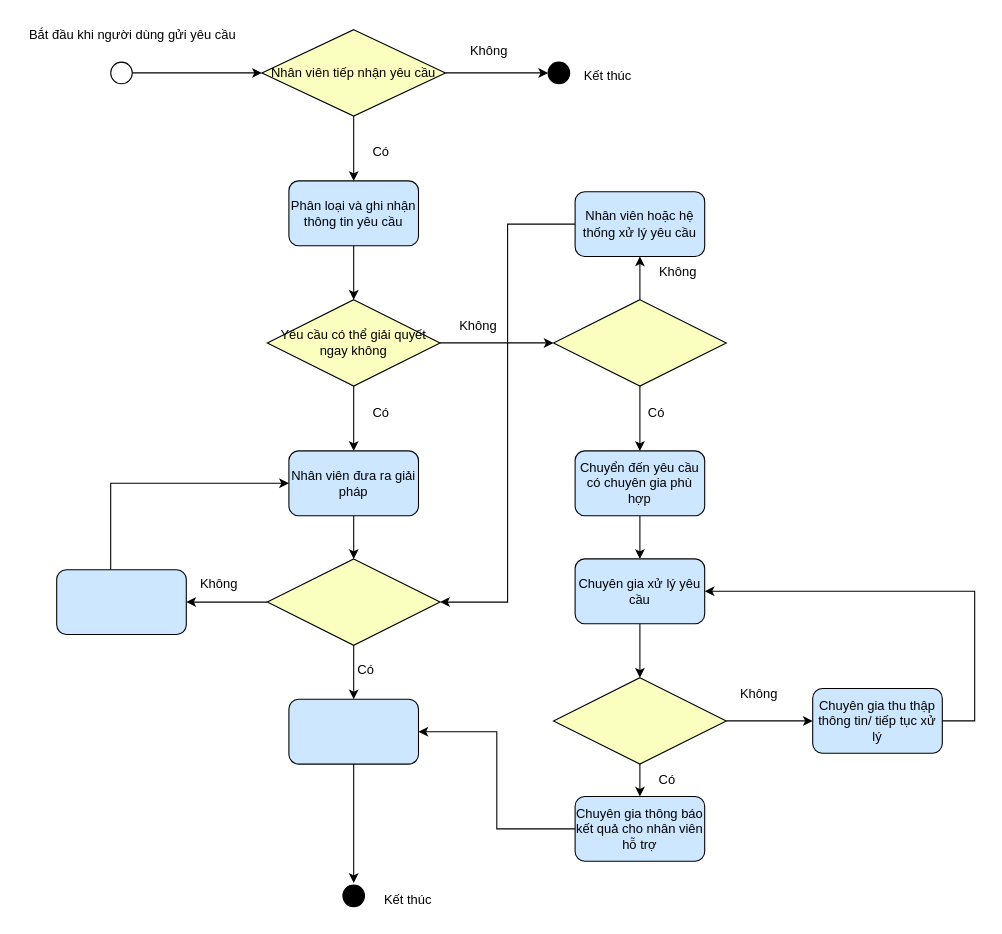
Image size: 1002x934. Some labels were removed from this diagram. The centre of each missing label's shape, as x and y in pixels:
Cập nhật hồ sơ yêu cầu và đóng: the point at 353,731
Người dùng xác định vấn đề được giải quyết: the point at 353,601
Thu thập thêm thông tin/ hỗ trợ thêm: the point at 121,601
Vấn đề được giải quyết: the point at 639,720
Yêu cầu cần chuyên gia hỗ trợ không: the point at 639,342
